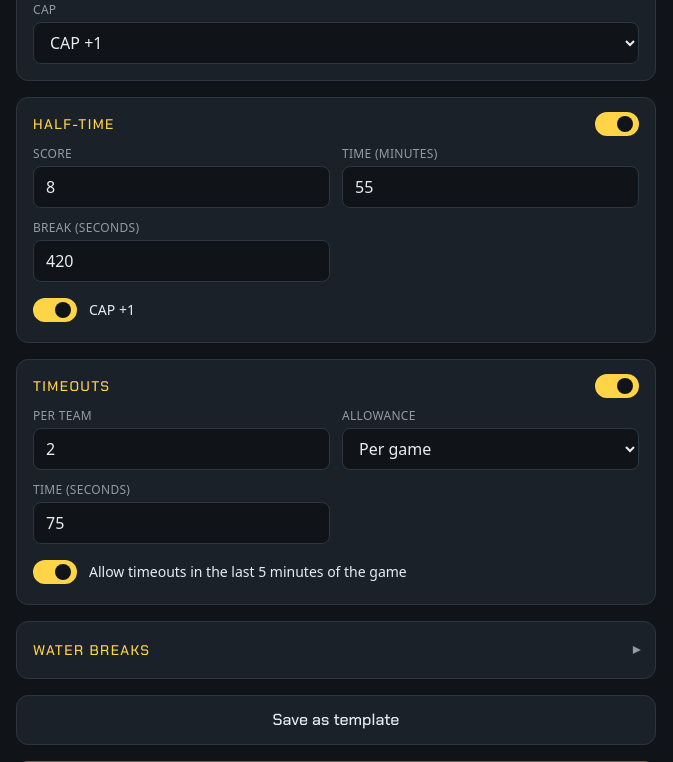
it: the Timeouts section toggle › folds the section down to its heading when switched off, and back
(page scrolled)
Step 1. Click the checkbox named "Allow timeouts" → [617, 386], box [595,370,639,402]
(page scrolled)
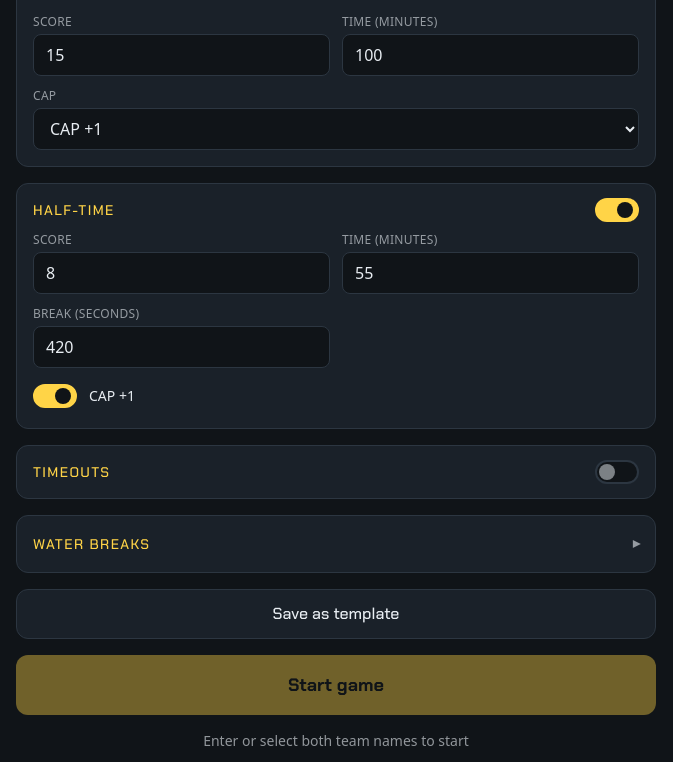
Expected: the checkbox named "Allow timeouts" is not checked
Expected: the text "Per team" is gone
Step 2. Click the checkbox in the row of "Timeouts" → [617, 472], box [595,456,639,488]
(page scrolled)
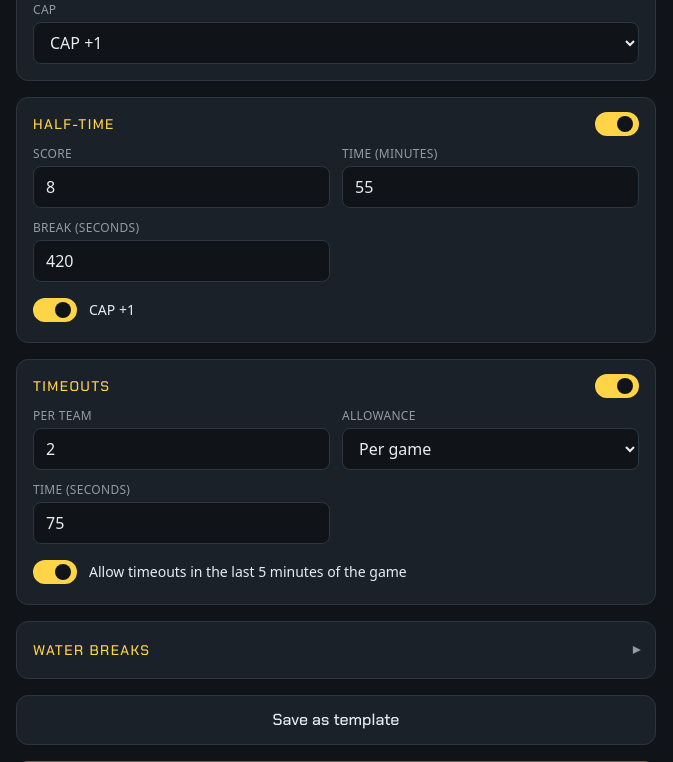
Expected: the text "Per team" is shown, [33,407,92,424]
